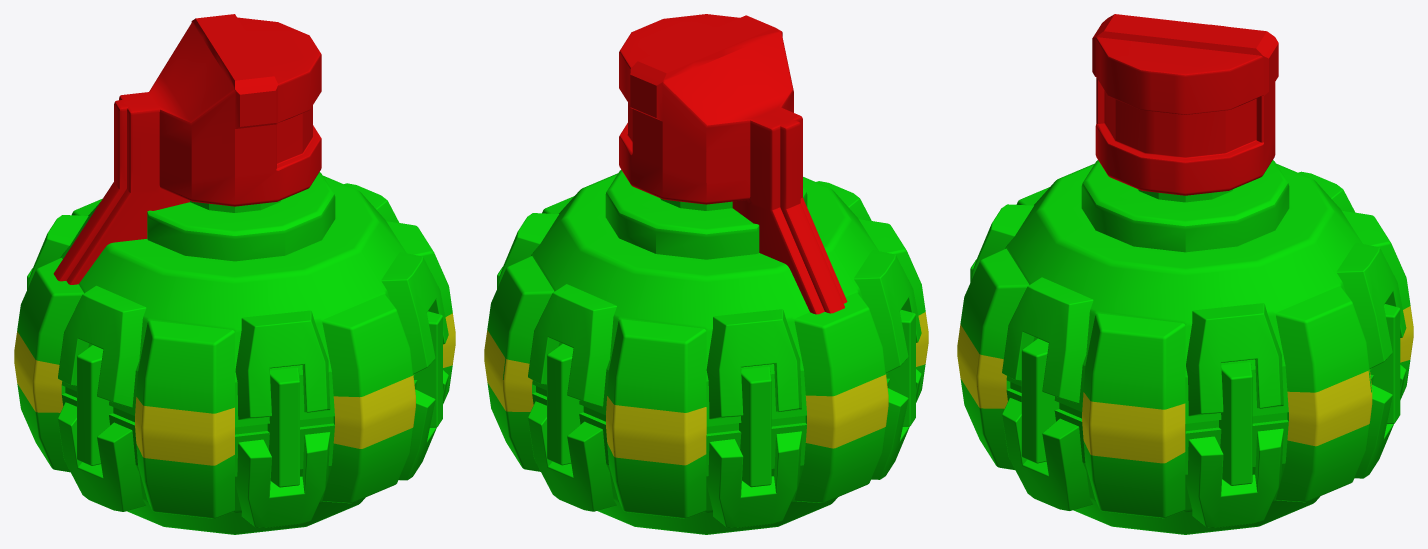
File: Grenade.fbx
The picture shows the model from 3 angles, left to right: view 1: azimuth 30°, elevation 25°; view 2: azimuth 150°, elevation 25°; view 3: azimuth 270°, elevation 25°; orthographic projection. The views are drawn at different scales.
Visible parts, largest first — view 1: group3_Grenade_1; view 2: group3_Grenade_1; view 3: group3_Grenade_1.
Boxes of the visible parts, x1=… form: group3_Grenade_1: x1=14, y1=14, x2=455, y2=534; group3_Grenade_1: x1=484, y1=14, x2=928, y2=534; group3_Grenade_1: x1=957, y1=14, x2=1413, y2=534.
Size of the model in its own units: 2.2 by 2.36 by 2.2.
